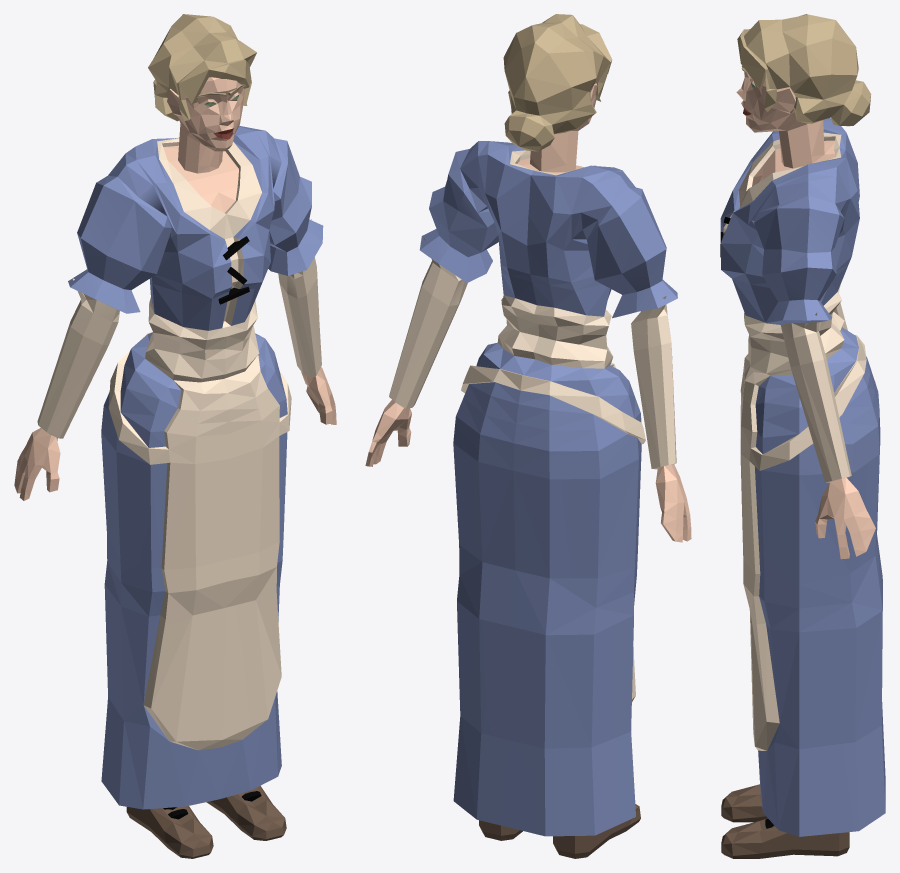
File: peasant_4.glb
The picture shows the model from 3 angles, left to right: view 1: azimuth 30°, elevation 25°; view 2: azimuth 150°, elevation 25°; view 3: azimuth 270°, elevation 25°; orthographic projection. The views are drawn at different scales.
Visible parts, largest first — view 1: peasant_4.001; view 2: peasant_4.001; view 3: peasant_4.001.
Boxes of the visible parts, box(x1,y1,x2,y2) form: peasant_4.001: box(14, 14, 336, 858); peasant_4.001: box(365, 14, 691, 858); peasant_4.001: box(720, 14, 885, 858).
Size of the model in its own units: 0.6885 by 1.69 by 0.308.
Materials: 1 (1 with a texture image).
